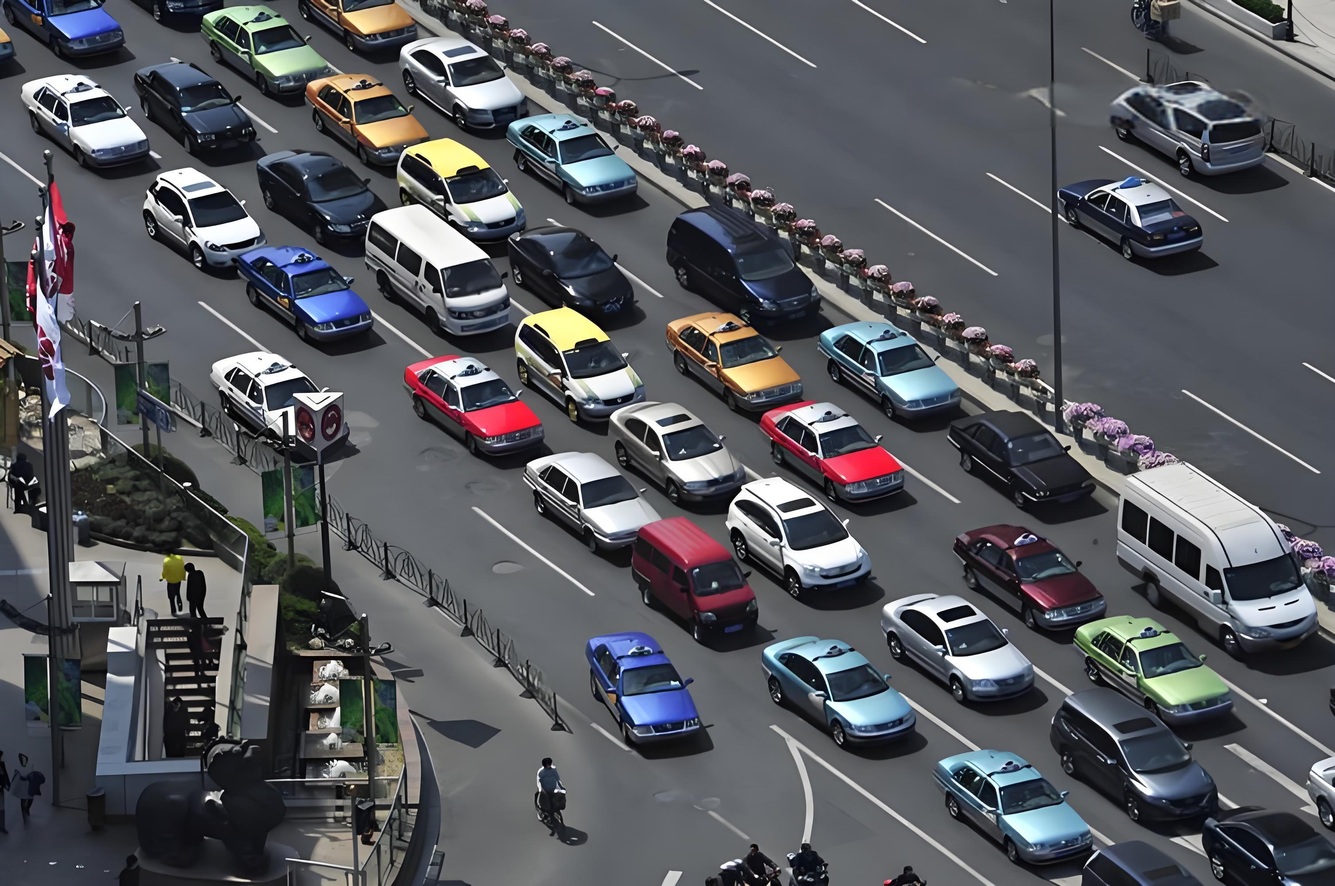bicycle: (523, 758, 600, 833)
car: (1112, 443, 1327, 677), (1035, 678, 1215, 834), (659, 189, 831, 345), (355, 199, 522, 352), (945, 500, 1110, 652), (878, 577, 1043, 721), (760, 621, 921, 765), (926, 739, 1102, 870), (624, 516, 785, 655), (1051, 151, 1213, 277), (1081, 610, 1244, 731), (1112, 69, 1273, 190), (574, 630, 721, 762), (950, 395, 1112, 513), (815, 312, 973, 431), (733, 477, 873, 611), (761, 404, 922, 514), (645, 312, 807, 416), (409, 348, 556, 459), (500, 109, 659, 211), (523, 443, 671, 552), (234, 245, 373, 358), (505, 316, 648, 424), (600, 404, 742, 512), (390, 139, 530, 242), (246, 148, 393, 244), (141, 156, 256, 276), (498, 229, 643, 324), (300, 63, 429, 163), (400, 37, 529, 124)
